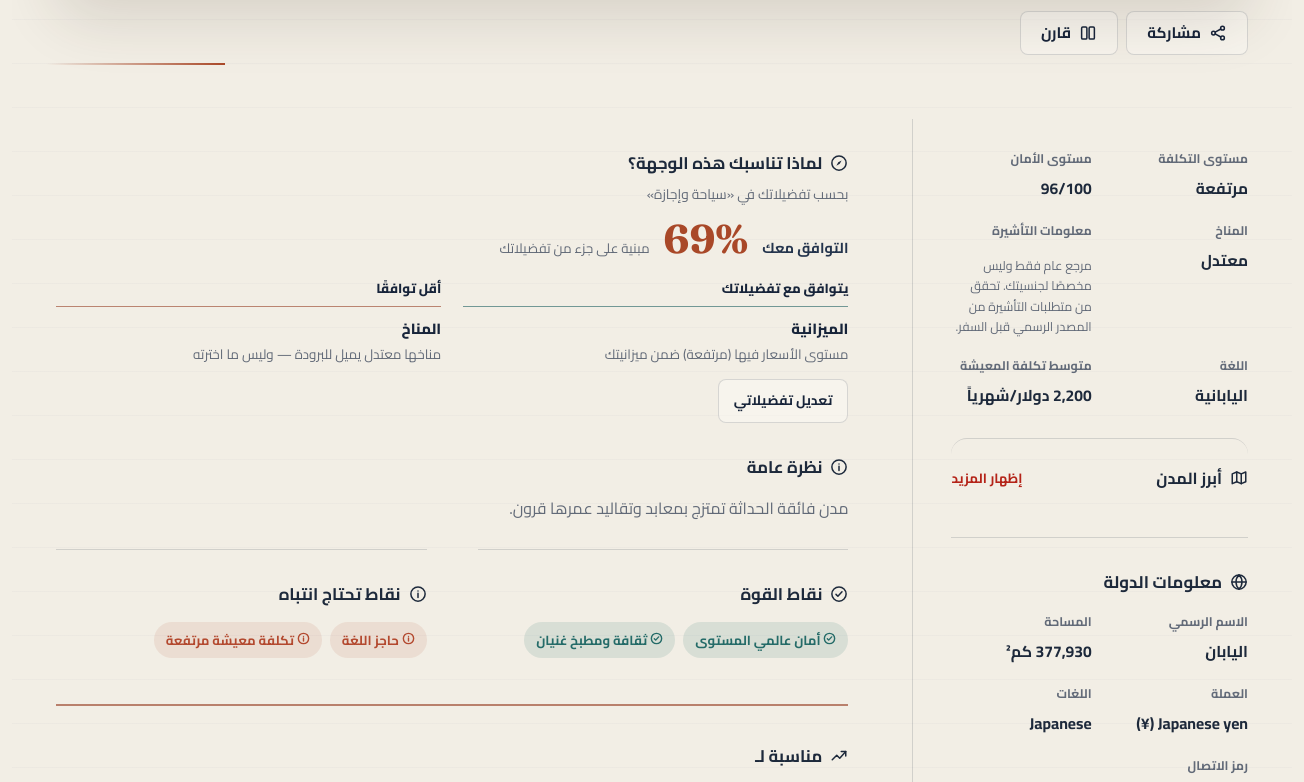
Scenario: destination match flow › "Edit my preferences" on a destination returns to that destination with its updated match
Later steps or results of the test are not shown.
(page scrolled)
Click the button "تعديل تفضيلاتي" at (783, 400), box [718,378,848,422]
(page scrolled)
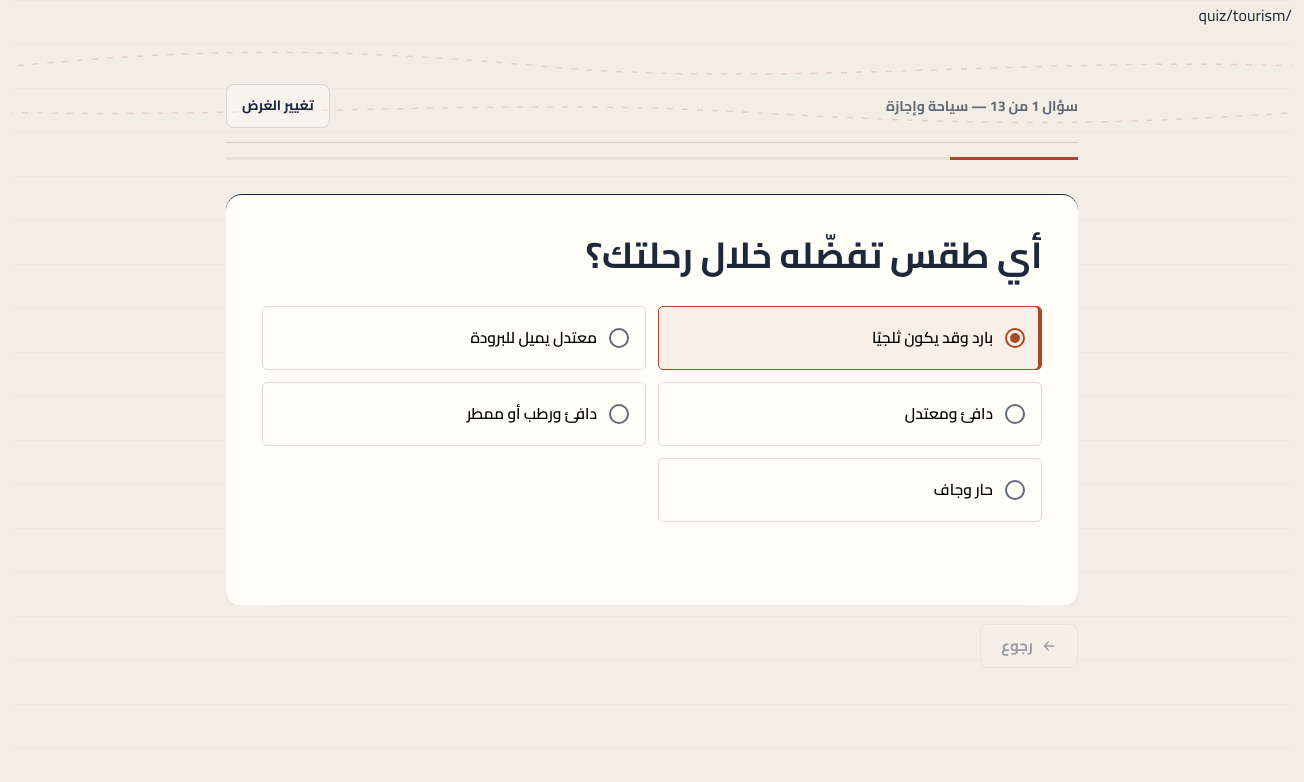
Expected: the text with test id "where" reads "/quiz/tourism", [1199,0,1292,30]
